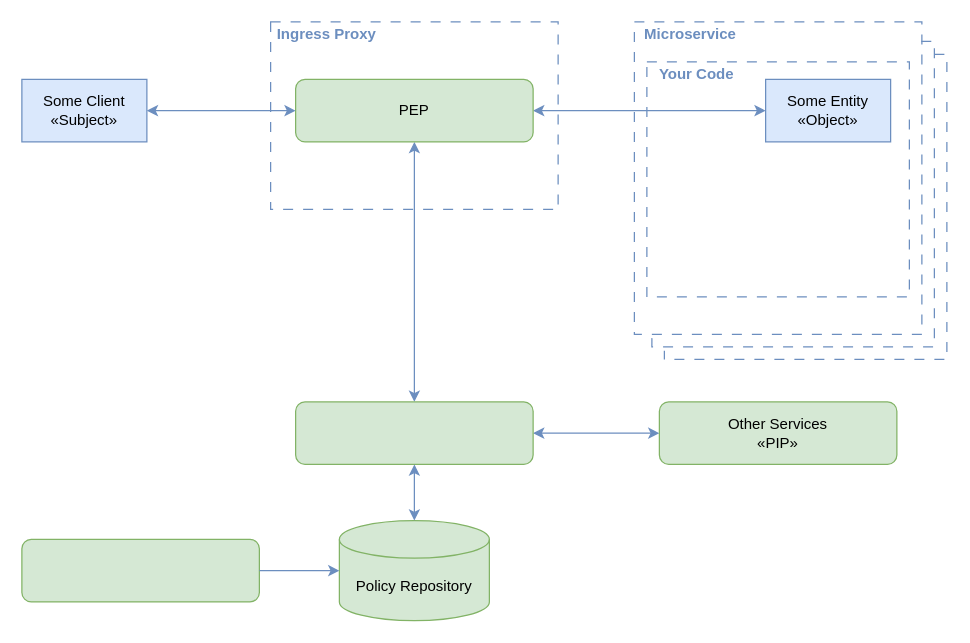
Image size: 970x643. Some labels were removed from this diagram. The shapes that lost their labels are listed below. From the top down, each one's centre as x and y in pixels, then its label:
At pixel 413 432: "PDP".
At pixel 140 570: "PAP".
